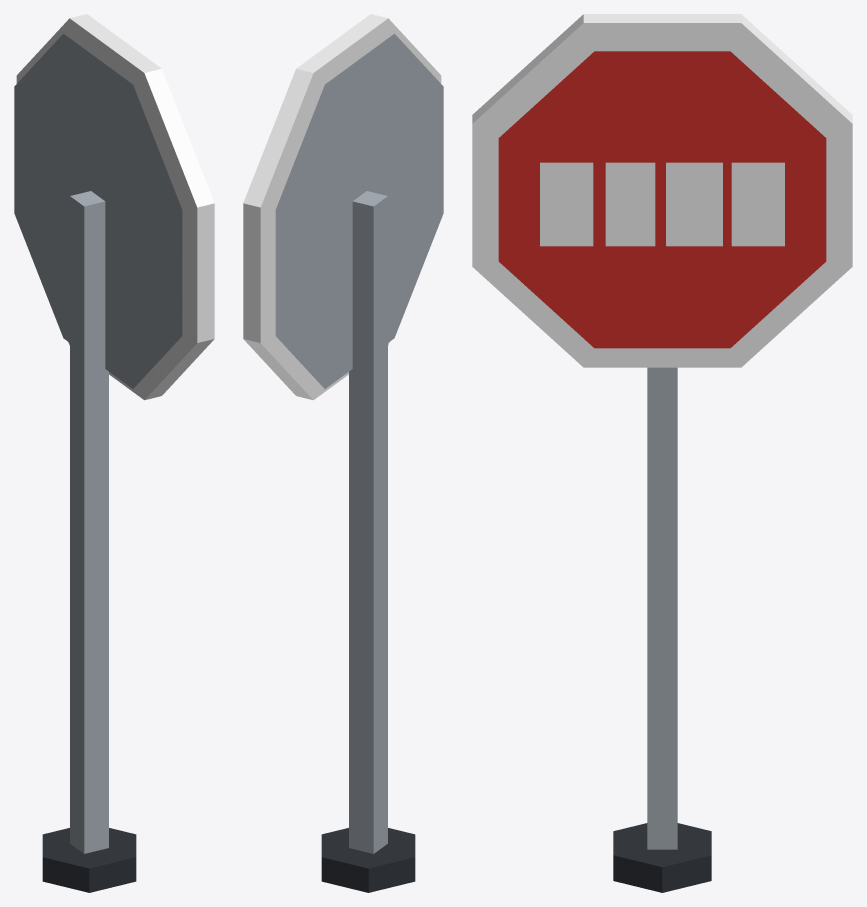
The model's file is sign_stop.glb.
3 renders of one model, left to right at view 1: azimuth 30°, elevation 25°; view 2: azimuth 150°, elevation 25°; view 3: azimuth 270°, elevation 25°, orthographic. The views are drawn at different scales.
Visible parts, largest first — view 1: sign_stop; view 2: sign_stop; view 3: sign_stop.
Boxes of the visible parts, <box> form: sign_stop: <box>14,14,214,892</box>; sign_stop: <box>243,14,443,892</box>; sign_stop: <box>472,14,852,892</box>.
Bounding box in the file's own units: 0.034 × 0.2686 × 0.1072.
